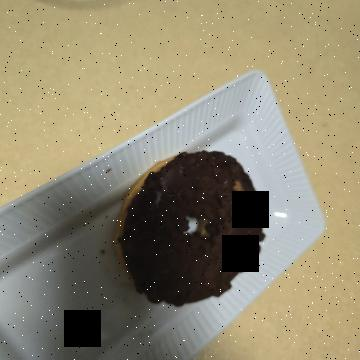doughnut: (133, 77, 324, 251)
